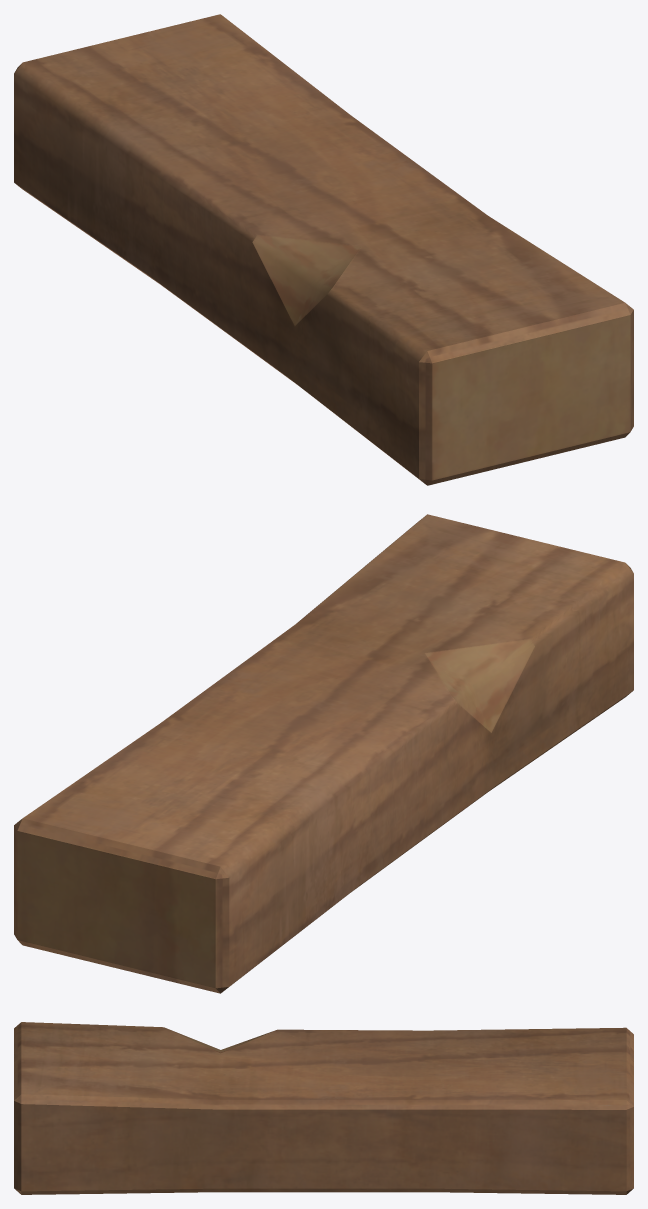
File: Kapla.fbx
3 renders of one model, top to bottom at view 1: azimuth 30°, elevation 25°; view 2: azimuth 150°, elevation 25°; view 3: azimuth 270°, elevation 25°, orthographic. The views are drawn at different scales.
Visible parts, largest first — view 1: Kapla; view 2: Kapla; view 3: Kapla.
Boxes of the visible parts, bbox=[...] form: Kapla: bbox=[14, 14, 633, 485]; Kapla: bbox=[14, 514, 633, 993]; Kapla: bbox=[14, 1022, 633, 1194].
Bounding box in the file's own units: 3 × 1.79 × 10.
